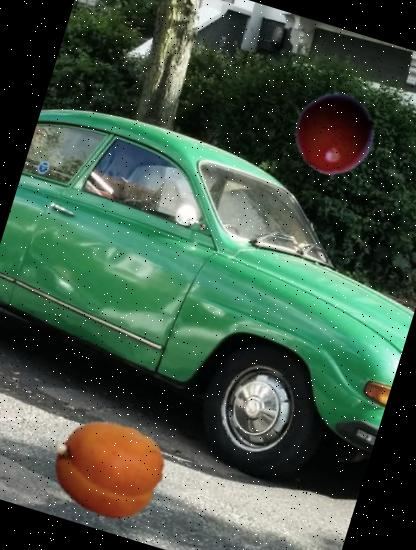Apricot: (40, 401, 176, 538)
Tamarillo: (282, 80, 387, 185)
